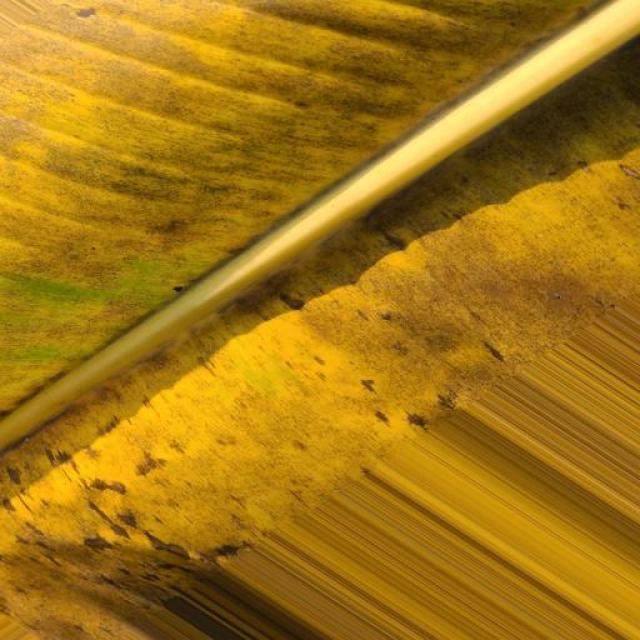Cordana: (0, 0, 636, 625)
